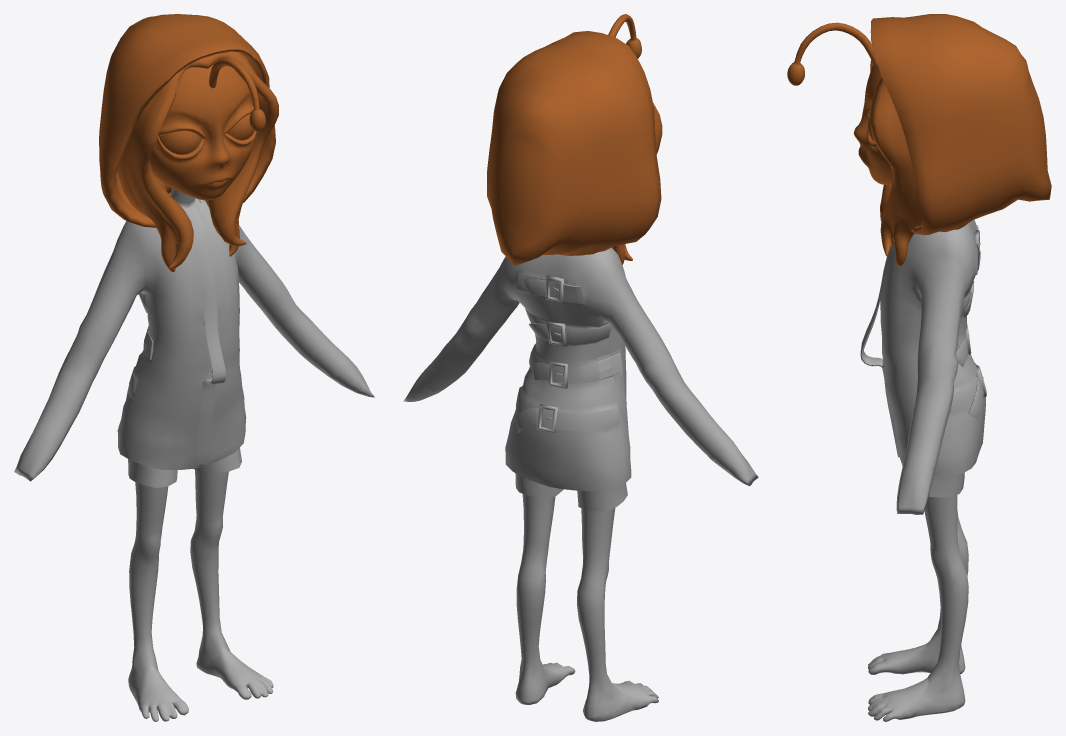
The model's file is FishGirl_Lowpoly.fbx.
The picture shows the model from 3 angles, left to right: view 1: azimuth 30°, elevation 25°; view 2: azimuth 150°, elevation 25°; view 3: azimuth 270°, elevation 25°; orthographic projection. The views are drawn at different scales.
Visible parts, largest first — view 1: FishGirl; view 2: FishGirl; view 3: FishGirl.
Boxes of the visible parts, <box> form: FishGirl: <box>14,14,374,721</box>; FishGirl: <box>403,14,758,721</box>; FishGirl: <box>787,14,1051,721</box>.
Bounding box in the file's own units: 67.12 × 121 × 43.32.
